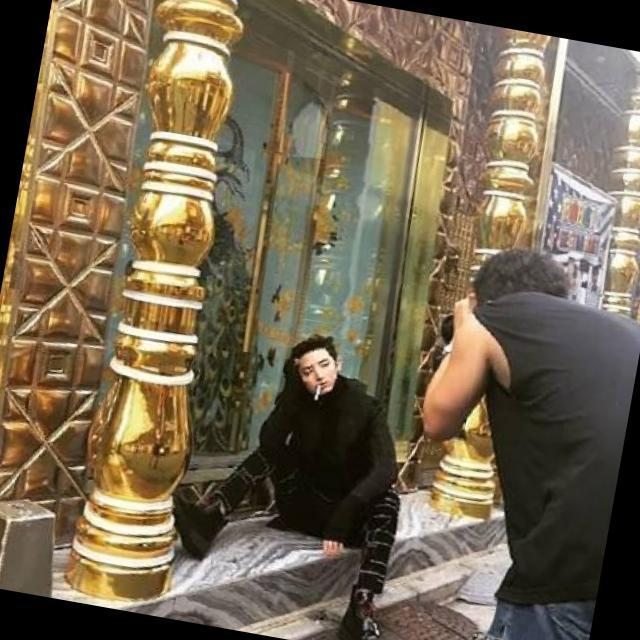cigarette: (310, 388, 326, 418)
